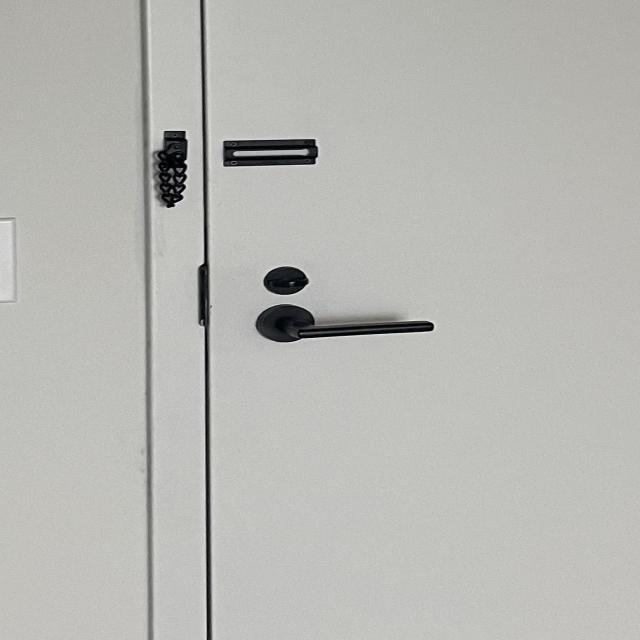door_handle: (250, 297, 460, 355)
